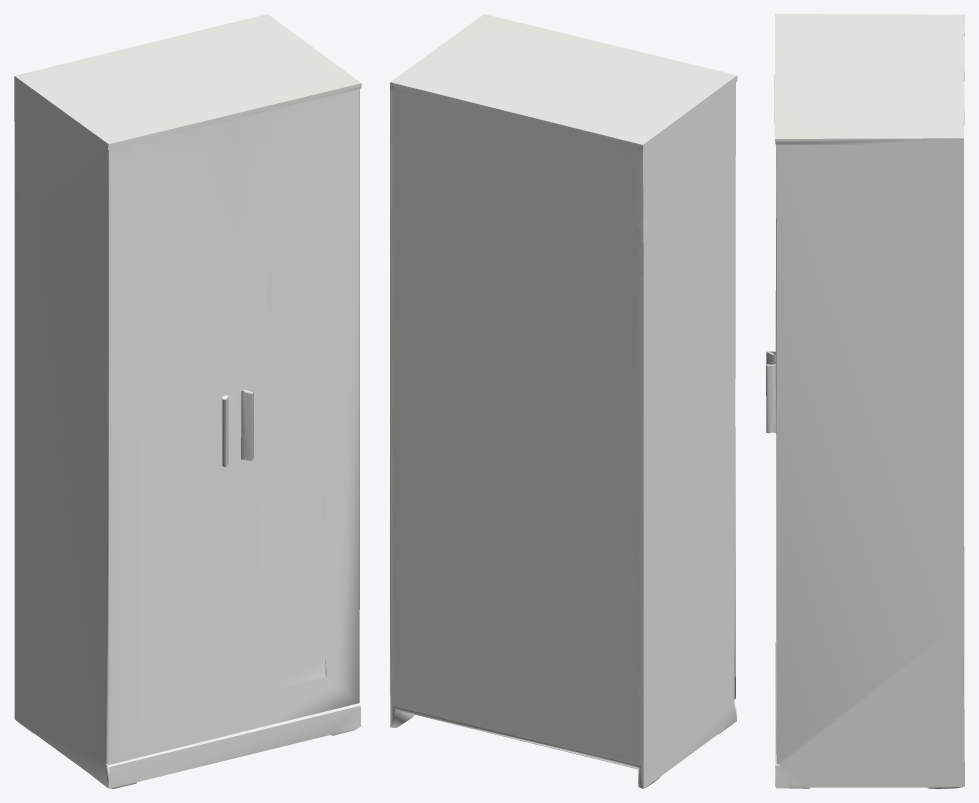
The picture shows the model from 3 angles, left to right: view 1: azimuth 30°, elevation 25°; view 2: azimuth 150°, elevation 25°; view 3: azimuth 270°, elevation 25°; orthographic projection.
Visible parts, largest first — view 1: 30574799-BRIMNES001; view 2: 30574799-BRIMNES001; view 3: 30574799-BRIMNES001.
Boxes of the visible parts, x1,y1,x2,y2 form: 30574799-BRIMNES001: (14, 14, 361, 788); 30574799-BRIMNES001: (390, 14, 737, 788); 30574799-BRIMNES001: (766, 14, 964, 788).
Bounding box in the file's own units: 0.7843 × 1.91 × 0.5284.
2 materials, 2 textured.
